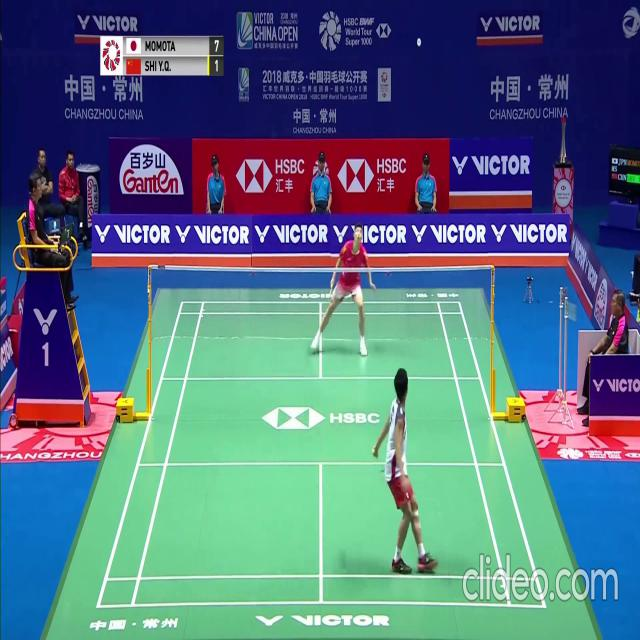Shuttlecock: (416, 38, 421, 45)
